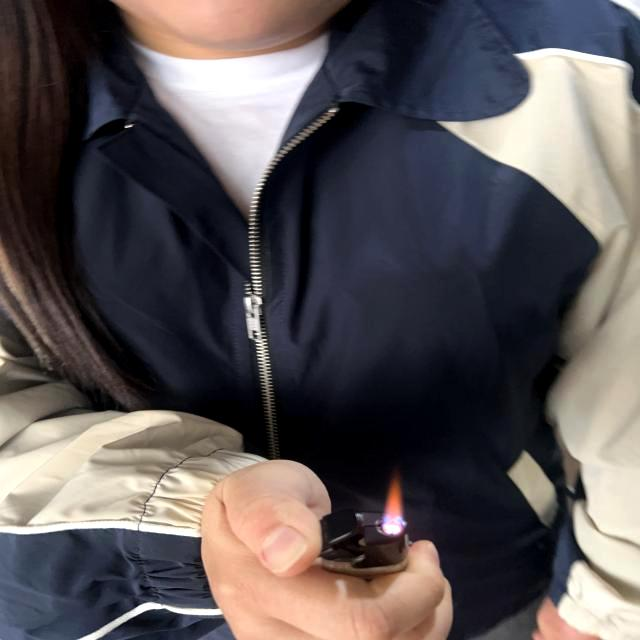fire: (384, 472, 404, 538)
